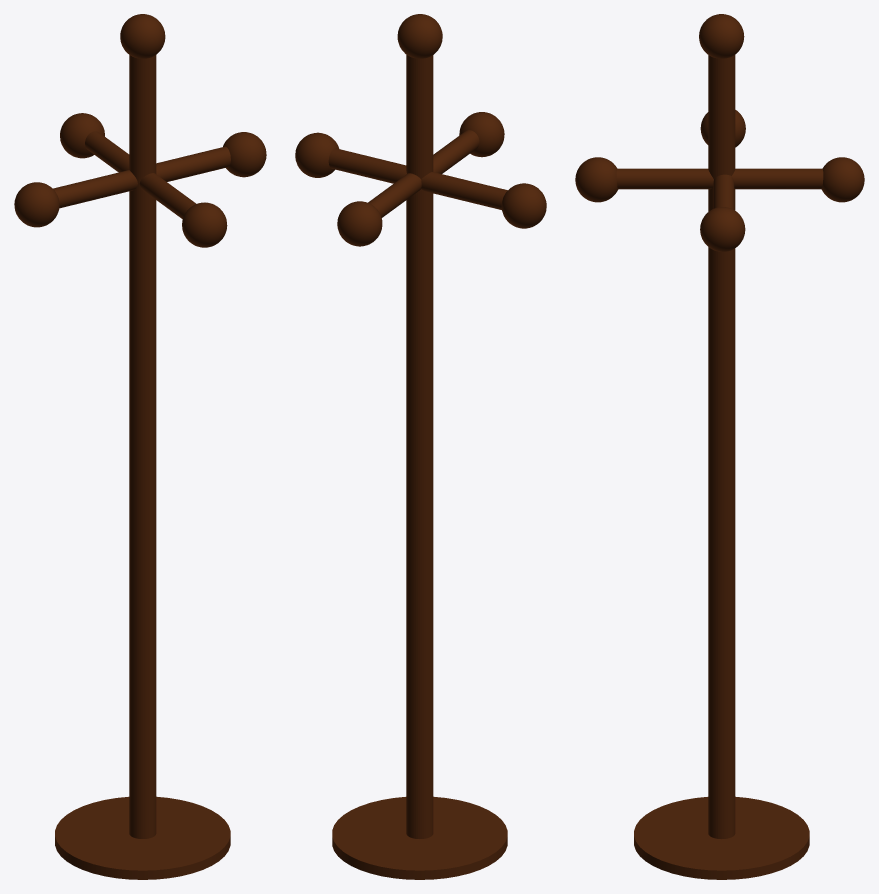
The model's file is CoatHanger.FBX.
The picture shows the model from 3 angles, left to right: view 1: azimuth 30°, elevation 25°; view 2: azimuth 150°, elevation 25°; view 3: azimuth 270°, elevation 25°; orthographic projection.
Parts seen in each view (by area): view 1: Cylinder001, Cylinder002, Sphere004, Sphere003, Sphere001, Sphere005, Sphere002; view 2: Cylinder001, Cylinder002, Sphere002, Sphere004, Sphere001, Sphere005, Sphere003; view 3: Cylinder001, Cylinder002, Sphere005, Sphere001, Sphere002, Sphere003.
Part boxes in pixels (box(x1,y1,x2,y2)): Cylinder001: box(53, 55, 230, 879); Cylinder002: box(85, 131, 196, 219); Sphere004: box(14, 182, 59, 227); Sphere003: box(182, 202, 227, 247); Sphere001: box(120, 14, 165, 58); Sphere005: box(223, 132, 266, 177); Sphere002: box(60, 113, 104, 158); Cylinder001: box(328, 55, 507, 879); Cylinder002: box(368, 130, 479, 217); Sphere002: box(337, 201, 382, 246); Sphere004: box(501, 183, 546, 228); Sphere001: box(397, 14, 442, 58); Sphere005: box(295, 132, 339, 177); Sphere003: box(459, 112, 504, 157); Cylinder001: box(634, 55, 809, 879); Cylinder002: box(616, 168, 823, 189); Sphere005: box(700, 207, 745, 251); Sphere001: box(699, 14, 744, 58); Sphere002: box(821, 157, 864, 202); Sphere003: box(575, 157, 618, 202).
Bounding box in the file's own units: 54.58 × 175 × 55.65.
